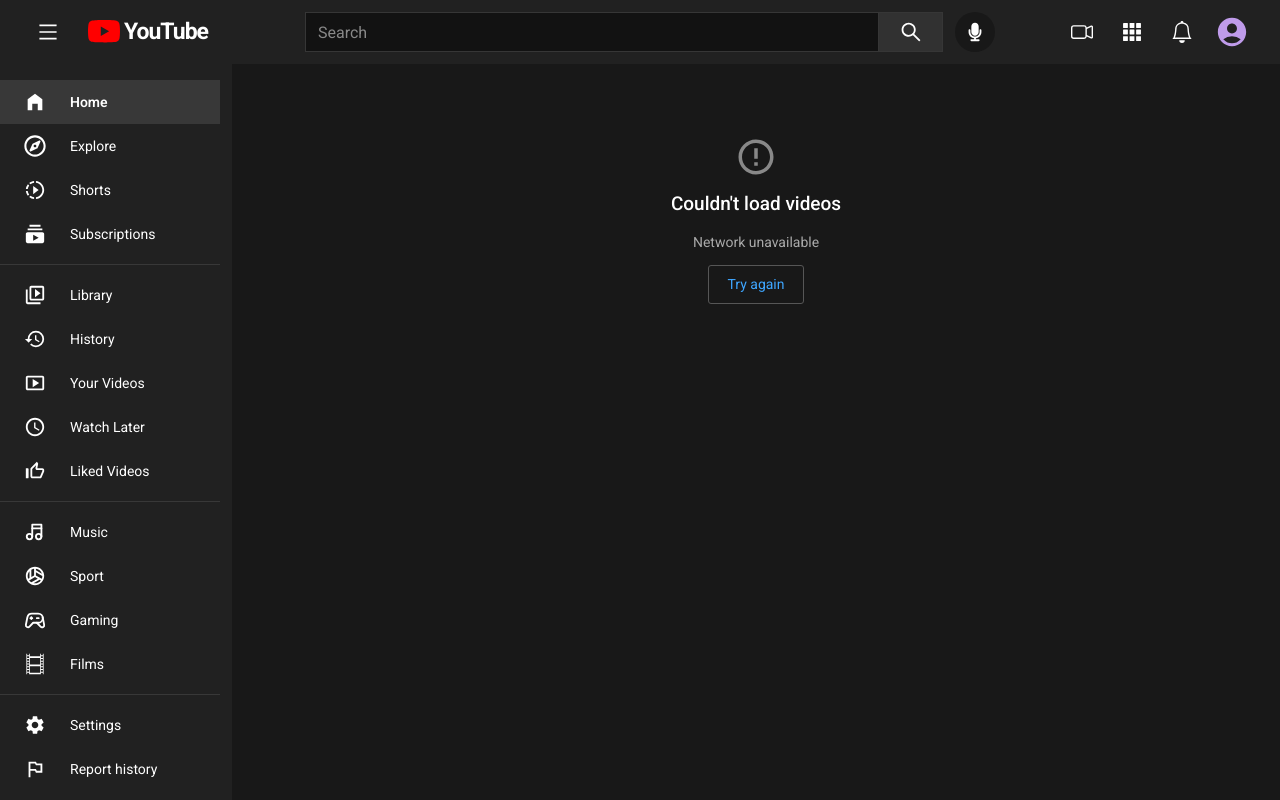
Test: replicated application flows › shows a recoverable feed error and an explicit empty state
This screenshot has width=1280, height=800.
expect the message shows "Network unavailable": met, box top-left (693, 234), bottom-right (819, 250)
Click the button "Try again".
click(756, 284)  # box top-left (708, 265), bottom-right (804, 304)
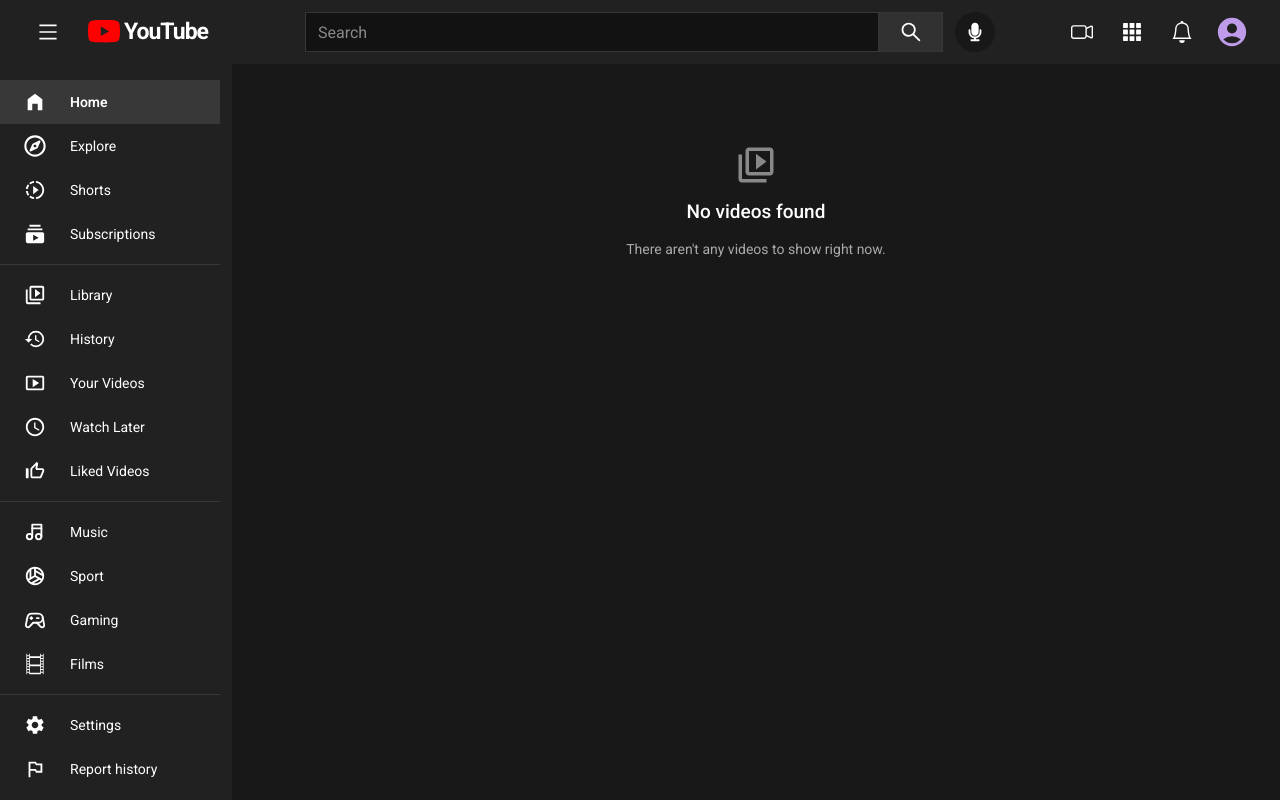
expect the heading "No videos found" is shown: met, box top-left (687, 198), bottom-right (825, 226)
